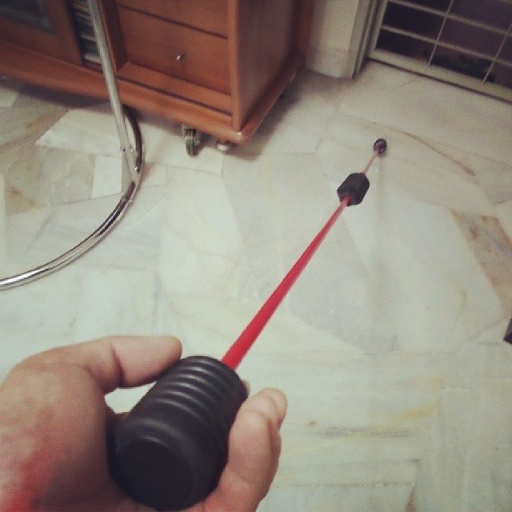hand: (0, 333, 288, 511)
